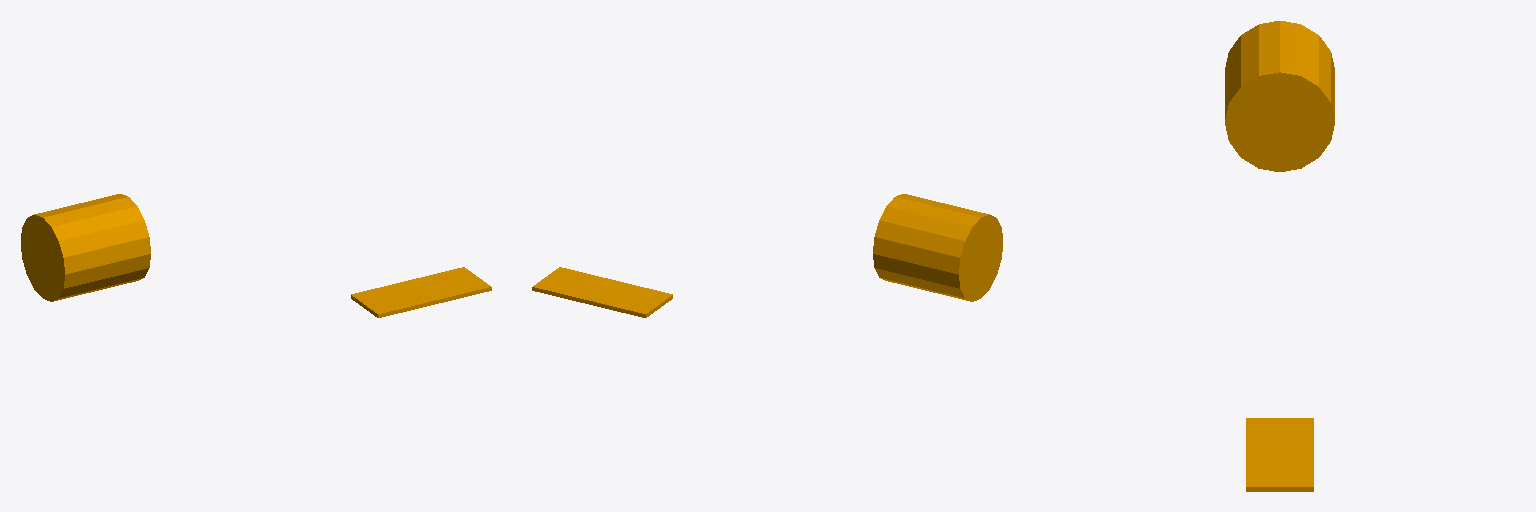
robot.urdf — spring_clip_upper:
<?xml version='1.0' encoding='utf-8'?>
<robot name="spring_clip_upper">
  <link name="body">
    <inertial>
      <origin xyz="-0.1748028665605683 1.4964290789365415e-18 0.12563164949707872" />
      <mass value="0.12" />
      <inertia ixx="0.00015048630446493126" iyy="0.0008550823524152317" izz="0.0008004323346202236" ixy="-4.197565187168513e-20" ixz="0.00011449131980596738" iyz="1.8957894783603082e-20" />
    </inertial>
    <visual>
      <geometry>
        <mesh filename="part_00.obj" />
      </geometry>
    </visual>
    <collision>
      <geometry>
        <mesh filename="part_00.obj" />
      </geometry>
    </collision>
    <visual>
      <geometry>
        <mesh filename="part_01.obj" />
      </geometry>
    </visual>
    <collision>
      <geometry>
        <mesh filename="part_01.obj" />
      </geometry>
    </collision>
    <visual>
      <geometry>
        <mesh filename="part_02.obj" />
      </geometry>
    </visual>
    <collision>
      <geometry>
        <mesh filename="part_02.obj" />
      </geometry>
    </collision>
    <visual>
      <geometry>
        <mesh filename="part_03.obj" />
      </geometry>
    </visual>
    <collision>
      <geometry>
        <mesh filename="part_03.obj" />
      </geometry>
    </collision>
  </link>
</robot>

--- Facts derived from the render (not from the file) ---
3 views of the same robot in one strip: view 1: azimuth 30°, elevation 25°; view 2: azimuth 150°, elevation 25°; view 3: azimuth 270°, elevation 25° (orthographic).
Model spring_clip_upper with 1 links and 0 joints (none), rooted at body, posed all joints at 0.
Links seen in each view (by area): view 1: body; view 2: body; view 3: body.
Link boxes in pixels (<box>): body: <box>21,194,491,317</box>; body: <box>532,194,1002,317</box>; body: <box>1225,21,1334,491</box>.
Bounding box of the posed robot: 0.46 × 0.082 × 0.171 m (x, y, z).
2 mesh visuals loaded from 4 distinct referenced files (2 OBJ); not drawn: 2 (reference not matched to a file when rendering).
